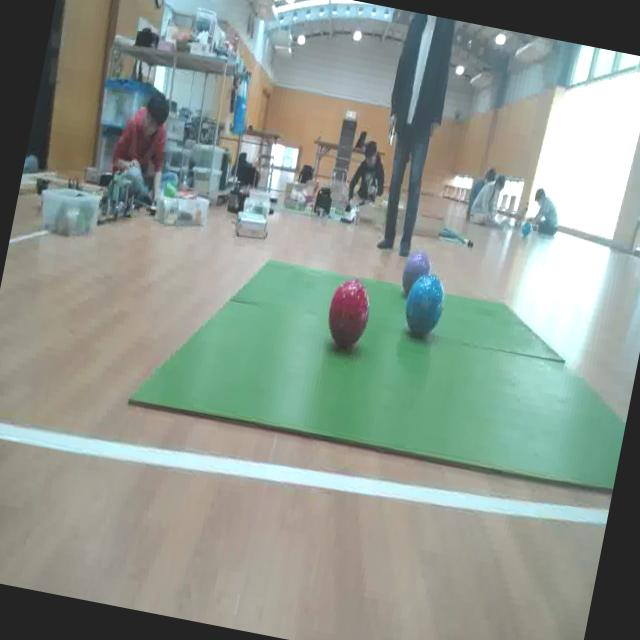blue_ball: (400, 268, 450, 339)
purple_ball: (396, 244, 438, 306)
red_ball: (318, 273, 378, 351)
